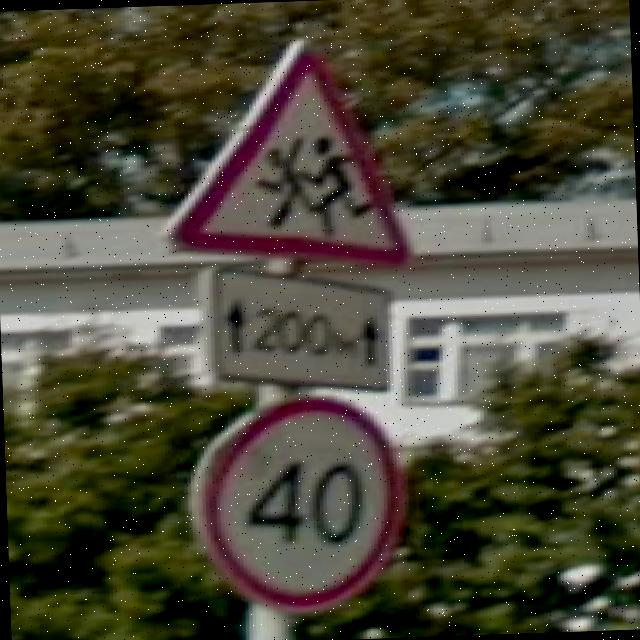Dzieci: (160, 32, 428, 274)
Ograniczenie predkosci do 40: (192, 395, 408, 618)
